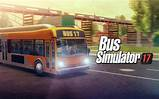bus: (1, 25, 90, 73)
